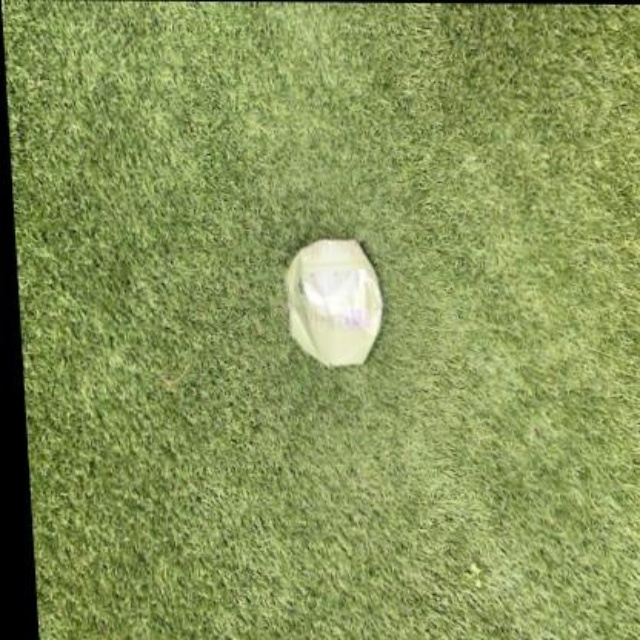trash: (286, 240, 382, 365)
